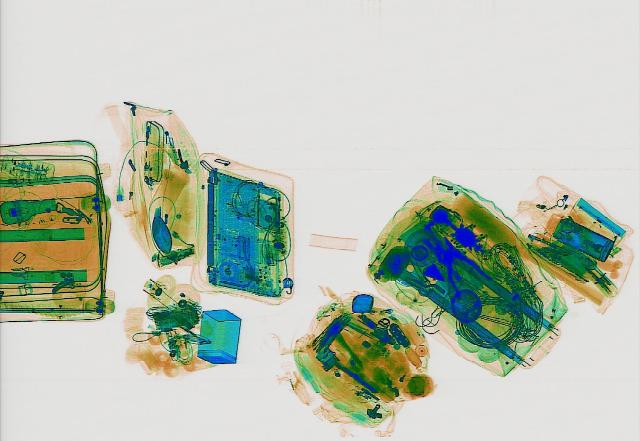Pliers: (421, 231, 492, 291)
